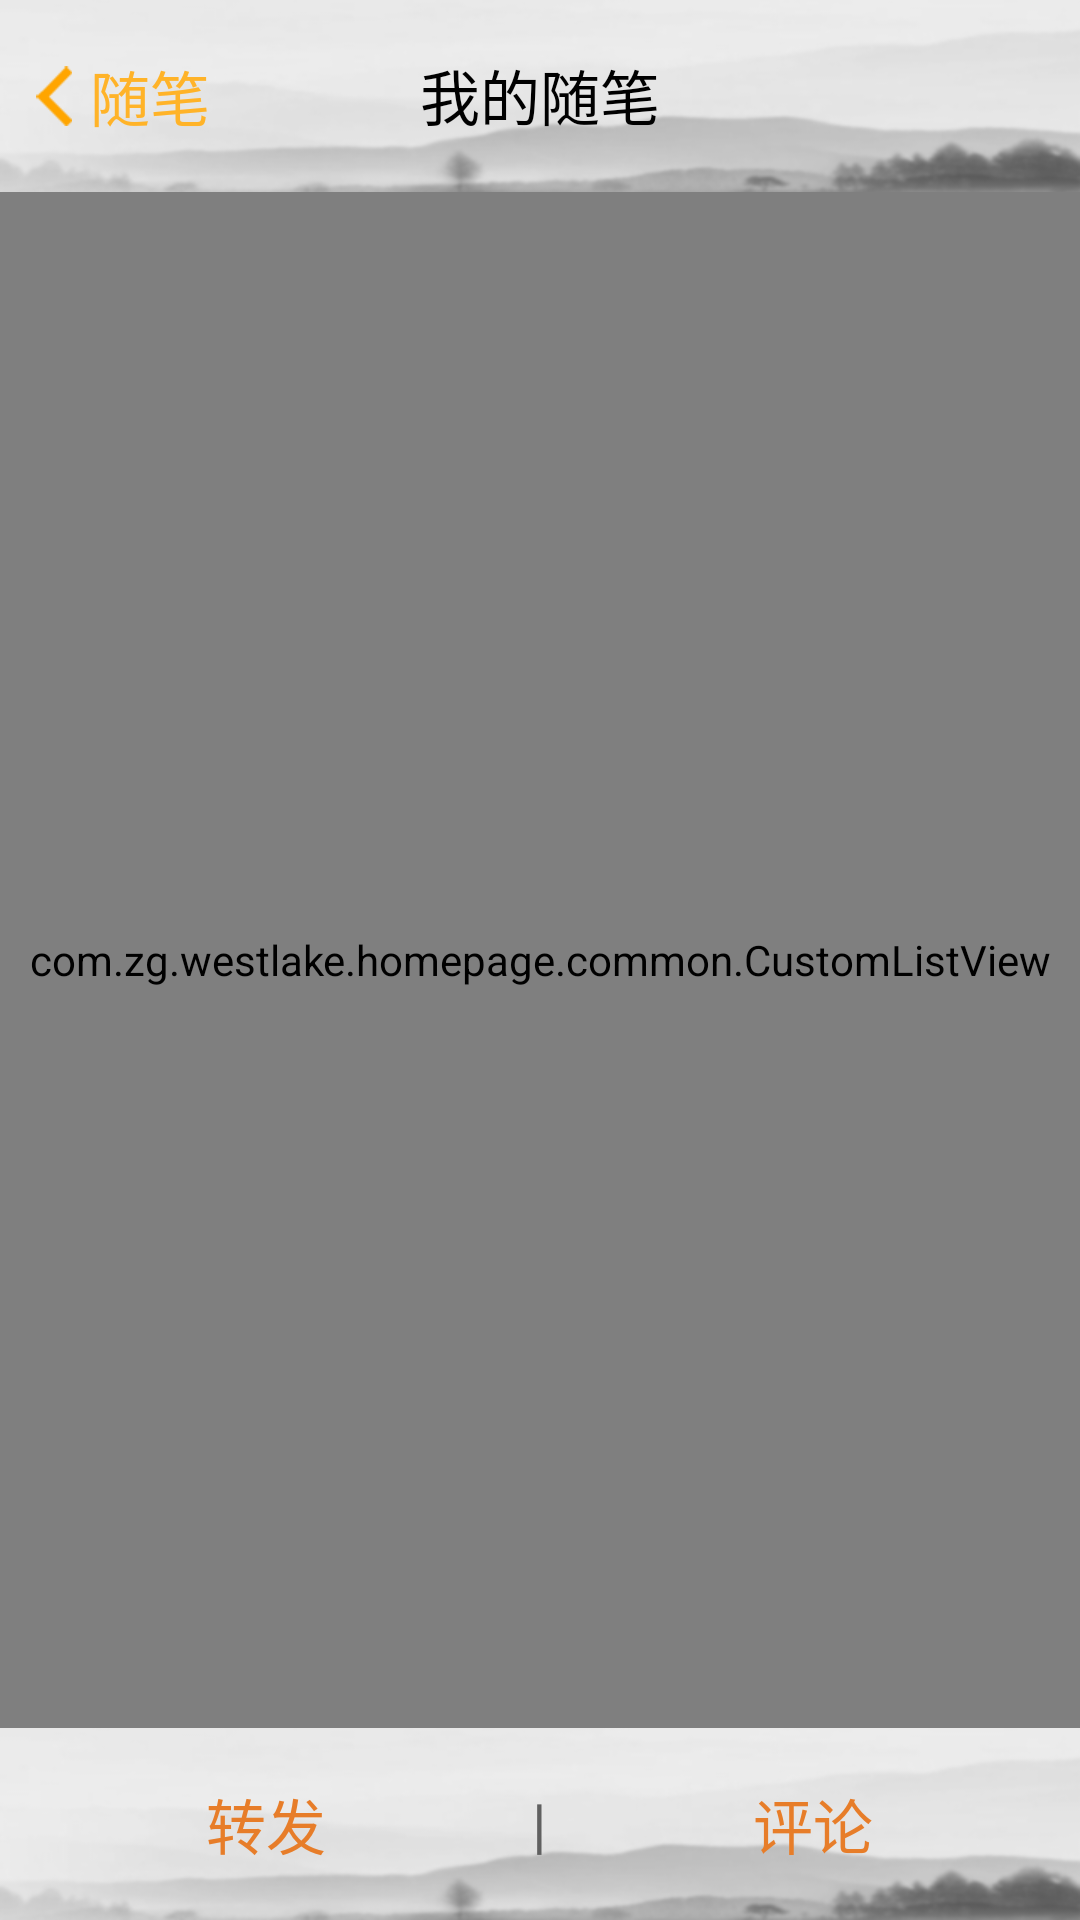

Where icons sit on this 1080*1920 app screen, as (x1, y1, x2, y2):
back: (36, 66, 72, 126)
